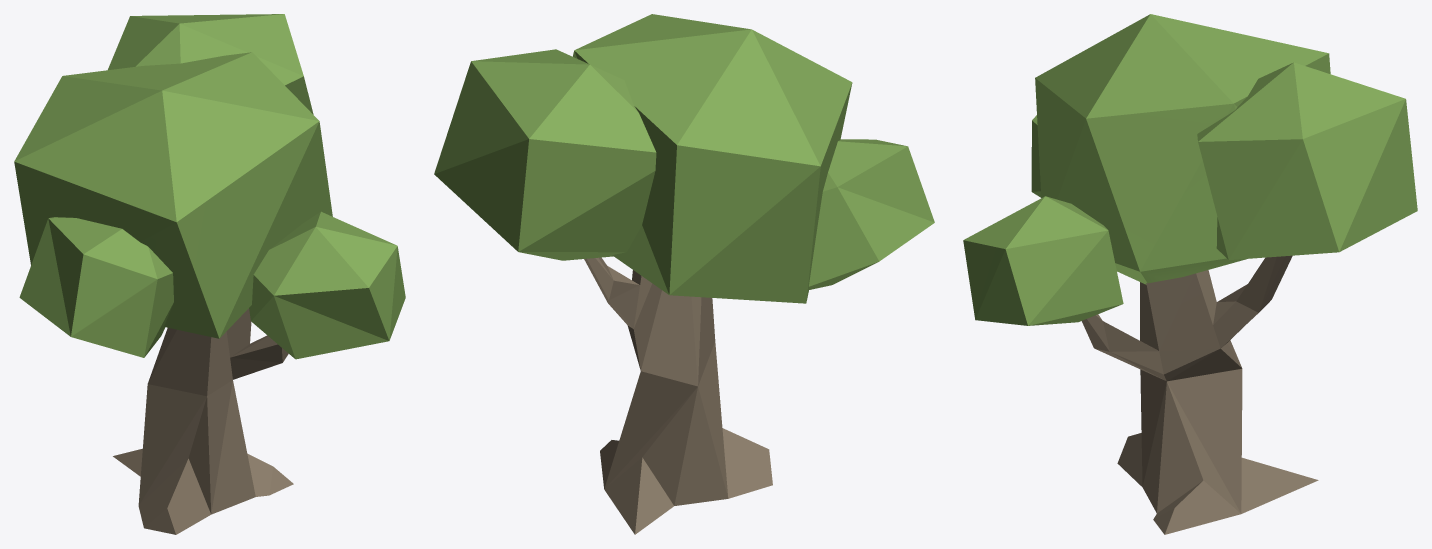
Rendered from Vegetation_Tree_Common_05.fbx.
3 views of the same model, side by side, from view 1: azimuth 30°, elevation 25°; view 2: azimuth 150°, elevation 25°; view 3: azimuth 270°, elevation 25° (orthographic). The views are drawn at different scales.
Parts seen in each view (by area): view 1: Vegetation_Tree_Common_05; view 2: Vegetation_Tree_Common_05; view 3: Vegetation_Tree_Common_05.
Boxes of the visible parts, box(x1,y1,x2,y2) form: Vegetation_Tree_Common_05: box(14, 14, 405, 534); Vegetation_Tree_Common_05: box(434, 14, 934, 534); Vegetation_Tree_Common_05: box(963, 14, 1417, 534).
Size of the model in its own units: 2641 by 3145 by 2877.
